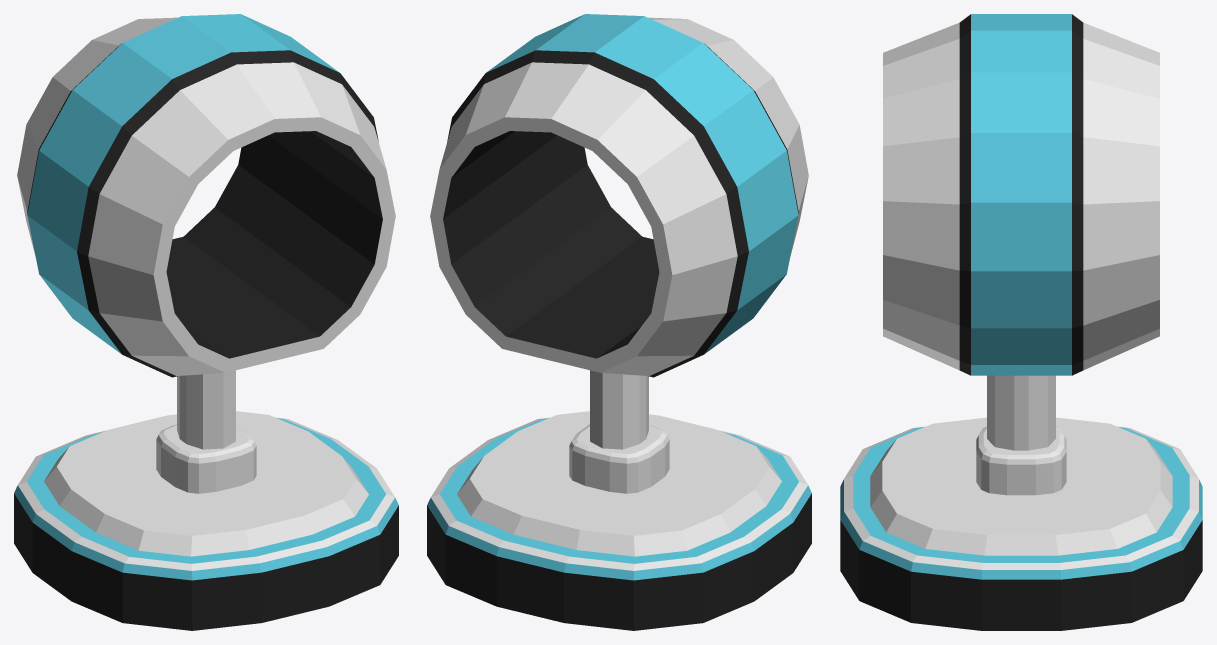
Rendered from cannon.fbx.
3 views of the same model, side by side, from view 1: azimuth 30°, elevation 25°; view 2: azimuth 150°, elevation 25°; view 3: azimuth 270°, elevation 25° (orthographic).
Parts seen in each view (by area): view 1: Cube; view 2: Cube; view 3: Cube.
Part boxes in pixels (x1=…): Cube: x1=14, y1=14, x2=398, y2=630; Cube: x1=427, y1=14, x2=811, y2=630; Cube: x1=840, y1=14, x2=1202, y2=630.
Bounding box in the file's own units: 200 × 319 × 200.
